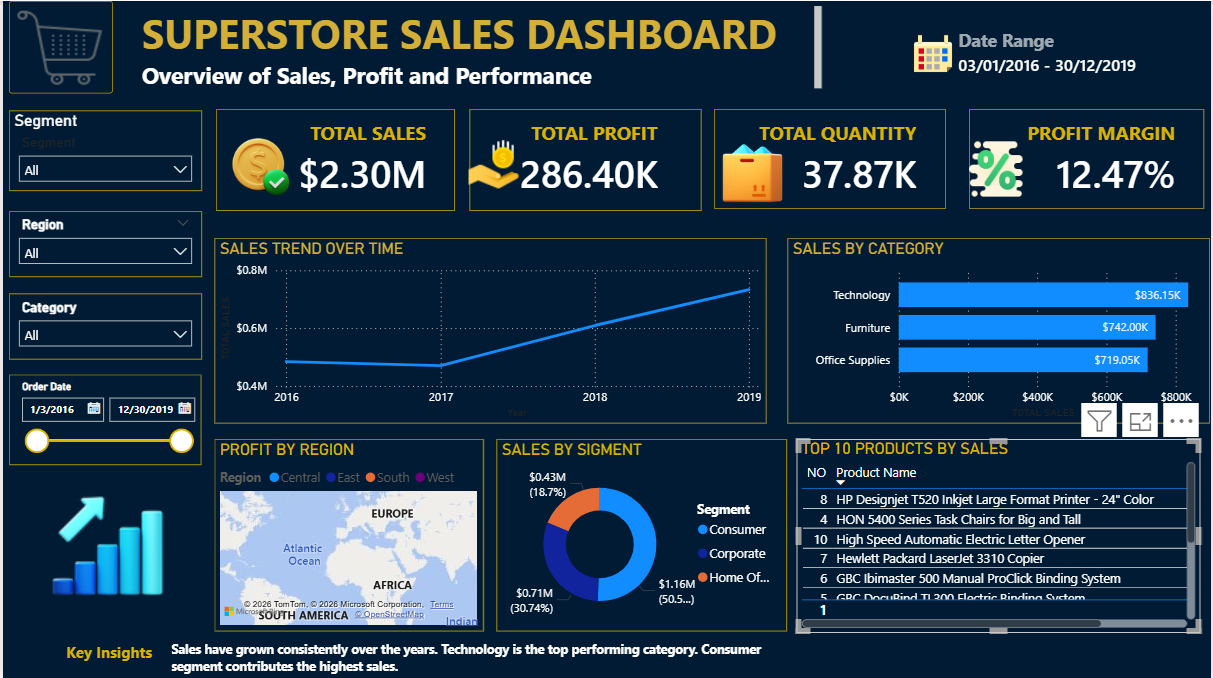

The page's visual inventory and layout, read from the dashboard file:
{"tool":"powerbi","page":{"name":"Page 1","canvas":[1280,720],"ordinal":0},"visuals":[{"type":"textbox","box":[141.7,0,731.3,98.3],"z":0},{"type":"cardVisual","fields":{"Data":["Orders.TOTAL QUANTITY"]},"box":[753.6,115,245.7,105.8],"z":1000,"group":"g3"},{"type":"lineChart","title":"SALES TREND OVER TIME","fields":{"Category":["Orders.Order Date.Variation.Date Hierarchy.Year","Orders.Order Date.Variation.Date Hierarchy.Quarter","Orders.Order Date.Variation.Date Hierarchy.Month","Orders.Order Date.Variation.Date Hierarchy.Day"],"Y":["Orders.TOTAL SALES"]},"box":[225,251.9,585.6,196.9],"z":1000},{"type":"cardVisual","fields":{"Data":["Orders.PROFIT MARGIN"]},"box":[1025.7,115,249.5,105.8],"z":2000,"group":"g4"},{"type":"clusteredBarChart","title":"SALES BY CATEGORY","fields":{"Category":["Orders.Category"],"Y":["Orders.TOTAL SALES"]},"box":[831.5,251.3,447.9,196.5],"z":2000},{"type":"filledMap","title":"PROFIT BY REGION","fields":{"Series":["Orders.Region"]},"box":[225,465,285,203.8],"z":3000},{"type":"donutChart","title":"SALES BY SIGMENT","fields":{"Category":["Orders.Segment"],"Y":["Orders.TOTAL SALES"]},"box":[523.5,464.9,308,204.1],"z":4000},{"type":"tableEx","title":"TOP 10 PRODUCTS BY SALES","fields":{"Values":["Orders.Product Rank","Orders.Product Name","Orders.TOTAL SALES"]},"box":[841.4,464.5,427.9,205.2],"z":5000},{"type":"slicer","title":"Segment","fields":{"Values":["Orders.Segment"]},"box":[5.6,115.6,204.4,85.6],"z":6000},{"type":"image","box":[6.2,0,110,98.1],"z":7000},{"type":"cardVisual","fields":{"Data":["Orders.Date Range"]},"box":[963.8,9.4,315.6,88.8],"z":8000},{"type":"image","box":[963.9,30.2,44.5,52.5],"z":9000},{"type":"slicer","fields":{"Values":["Orders.Region"]},"box":[5.6,222.5,204.4,70],"z":10000},{"type":"cardVisual","fields":{"Data":["Orders.TOTAL PROFIT"]},"box":[494.7,115,245.7,107.7],"z":11000,"group":"g2"},{"type":"slicer","fields":{"Values":["Orders.Category"]},"box":[5.6,310,204.4,70],"z":11000},{"type":"cardVisual","fields":{"Data":["Orders.TOTAL SALES"]},"box":[226.3,115,253.2,107.7],"z":12000,"group":"g1"},{"type":"slicer","fields":{"Values":["Orders.Order Date"]},"box":[5.8,395.8,204.2,95.8],"z":12000},{"type":"group","id":"g1","title":"Group 1","box":[226.3,115,253.2,107.7],"z":13000},{"type":"group","id":"g2","title":"Group 2","box":[490.6,115,249.8,107.7],"z":14000},{"type":"image","box":[1025,136.5,58.9,82.7],"z":14000,"group":"g4"},{"type":"group","id":"g3","title":"Group 3","box":[753.6,115,245.7,105.8],"z":15000},{"type":"image","box":[759.4,147.7,68.4,73.2],"z":15000,"group":"g3"},{"type":"group","id":"g4","title":"Group 4","box":[1025,115,250.1,105.8],"z":16000},{"type":"image","box":[490.6,136.5,60.4,81.1],"z":16000,"group":"g2"},{"type":"image","box":[226.5,136.5,89.1,73.2],"z":17000,"group":"g1"},{"type":"image","box":[11.1,504.2,198.8,143.2],"z":17000},{"type":"textbox","box":[62,674.4,105,39.8],"z":18000},{"type":"textbox","box":[173.4,672.8,663.3,46.1],"z":19000}]}

Visuals, with their boxes in screenshot pixels (x1, y1, x2, y2), scaled from the page's 1280x720 canvas onto the 1213x678 screenshot:
textbox: 134, 0, 827, 93
cardVisual - Orders.TOTAL QUANTITY: 714, 108, 947, 208
"SALES TREND OVER TIME" lineChart: 213, 237, 768, 423
cardVisual - Orders.PROFIT MARGIN: 972, 108, 1208, 208
"SALES BY CATEGORY" clusteredBarChart: 788, 237, 1212, 422
"PROFIT BY REGION" filledMap: 213, 438, 483, 630
"SALES BY SIGMENT" donutChart: 496, 438, 788, 630
"TOP 10 PRODUCTS BY SALES" tableEx: 797, 437, 1203, 631
"Segment" slicer: 5, 109, 199, 189
image: 6, 0, 110, 92
cardVisual - Orders.Date Range: 913, 9, 1212, 92
image: 913, 28, 956, 78
slicer - Orders.Region: 5, 210, 199, 275
cardVisual - Orders.TOTAL PROFIT: 469, 108, 702, 210
slicer - Orders.Category: 5, 292, 199, 358
cardVisual - Orders.TOTAL SALES: 214, 108, 454, 210
slicer - Orders.Order Date: 5, 373, 199, 463
"Group 1" group: 214, 108, 454, 210
"Group 2" group: 465, 108, 702, 210
image: 971, 129, 1027, 206
"Group 3" group: 714, 108, 947, 208
image: 720, 139, 784, 208
"Group 4" group: 971, 108, 1208, 208
image: 465, 129, 522, 205
image: 215, 129, 299, 197
image: 11, 475, 199, 610
textbox: 59, 635, 158, 673
textbox: 164, 634, 793, 677
